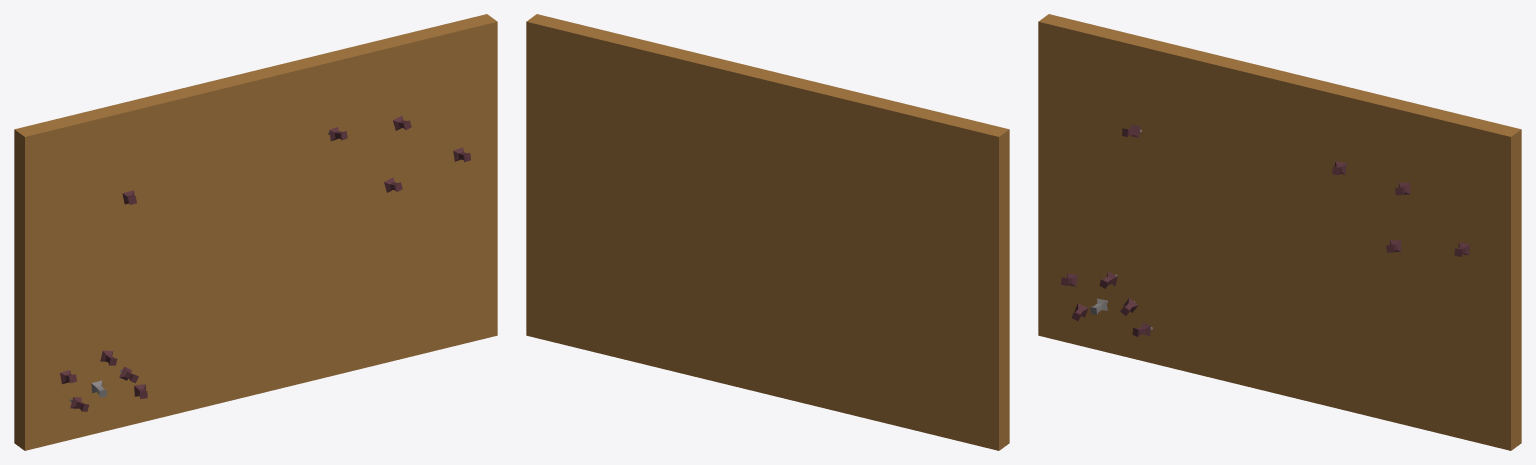
The model's file is pinboard-clear.fbx.
3 views of the same model, side by side, from view 1: azimuth 30°, elevation 25°; view 2: azimuth 150°, elevation 25°; view 3: azimuth 330°, elevation 25° (orthographic).
Parts seen in each view (by area): view 1: pinboard-clear; view 2: pinboard-clear; view 3: pinboard-clear.
Boxes of the visible parts, bbox=[...] form: pinboard-clear: bbox=[14, 14, 497, 450]; pinboard-clear: bbox=[526, 14, 1009, 450]; pinboard-clear: bbox=[1038, 14, 1521, 450].
Bounding box in the file's own units: 0.52 × 0.33 × 0.0428.
